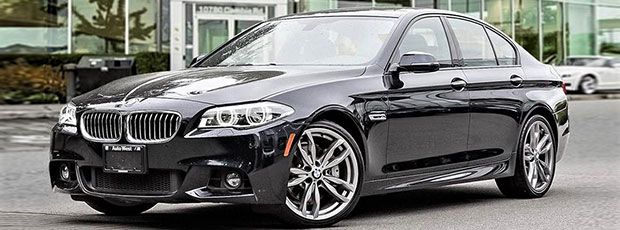car: (51, 4, 569, 220), (554, 54, 620, 94)
